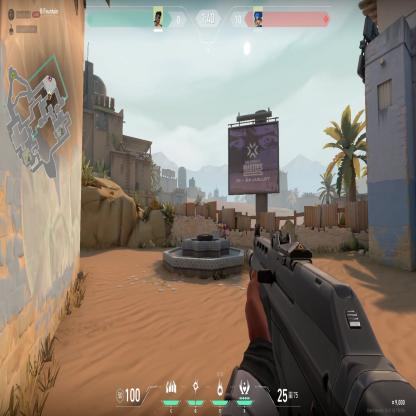enemy: (218, 218, 227, 238)
